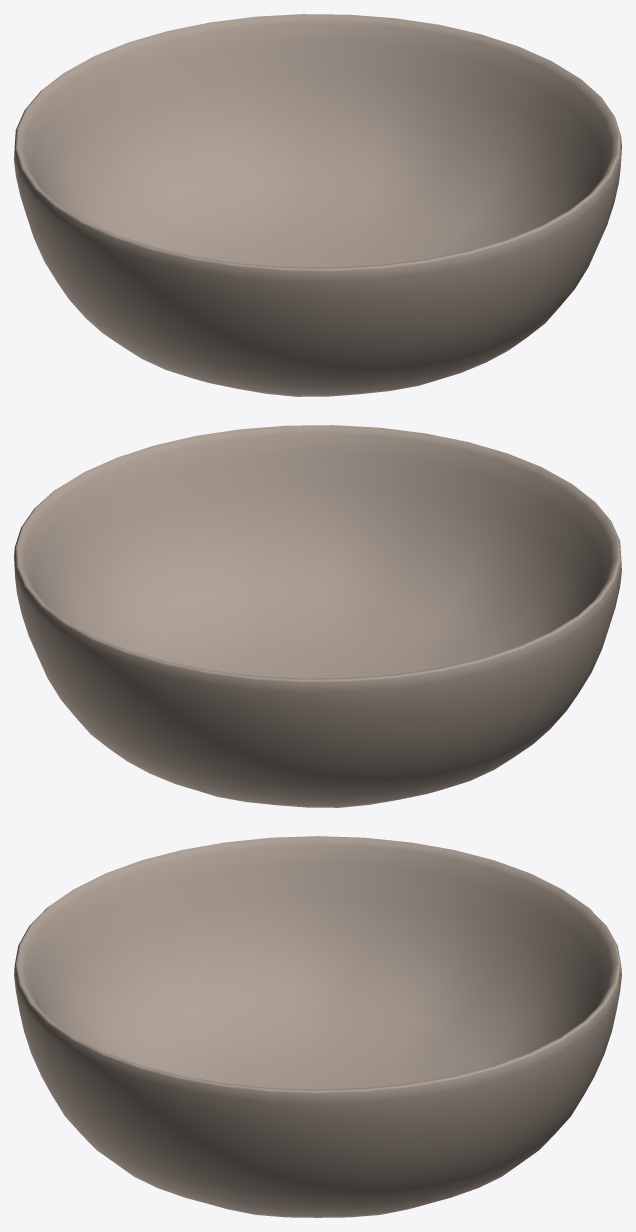
Rendered from Poterie10.fbx.
The picture shows the model from 3 angles, top to bottom: view 1: azimuth 30°, elevation 25°; view 2: azimuth 150°, elevation 25°; view 3: azimuth 270°, elevation 25°; orthographic projection.
Visible parts, largest first — view 1: polySurface30; view 2: polySurface30; view 3: polySurface30.
Boxes of the visible parts, left/top/right/bottom form: polySurface30: left=14, top=14, right=621, bottom=396; polySurface30: left=14, top=425, right=621, bottom=807; polySurface30: left=14, top=836, right=621, bottom=1217.
Size of the model in its own units: 0.3843 by 0.1287 by 0.384.
